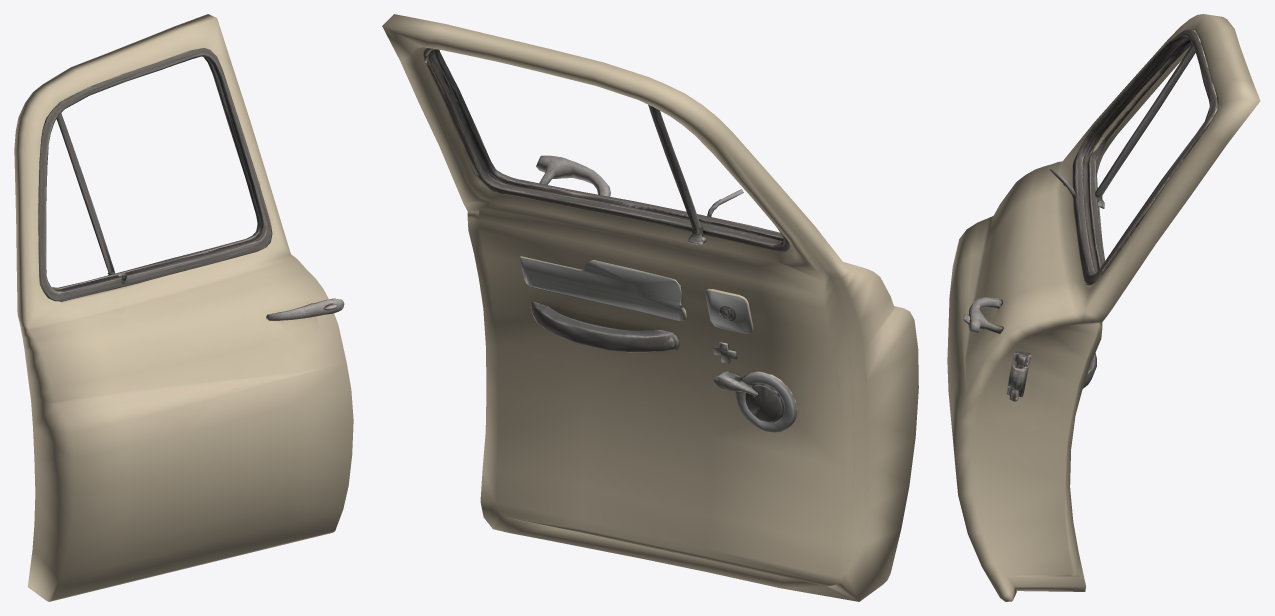
Rendered from original_glb.glb.
The picture shows the model from 3 angles, left to right: view 1: azimuth 30°, elevation 25°; view 2: azimuth 150°, elevation 25°; view 3: azimuth 270°, elevation 25°; orthographic projection. The views are drawn at different scales.
Parts seen in each view (by area): view 1: left front door; view 2: left front door; view 3: left front door.
Boxes of the visible parts, x1=… form: left front door: x1=14, y1=14, x2=353, y2=601; left front door: x1=382, y1=14, x2=918, y2=601; left front door: x1=947, y1=14, x2=1260, y2=601.
Bounding box in the file's own units: 0.6699 × 0.998 × 0.5684.
1 material, 1 textured.
